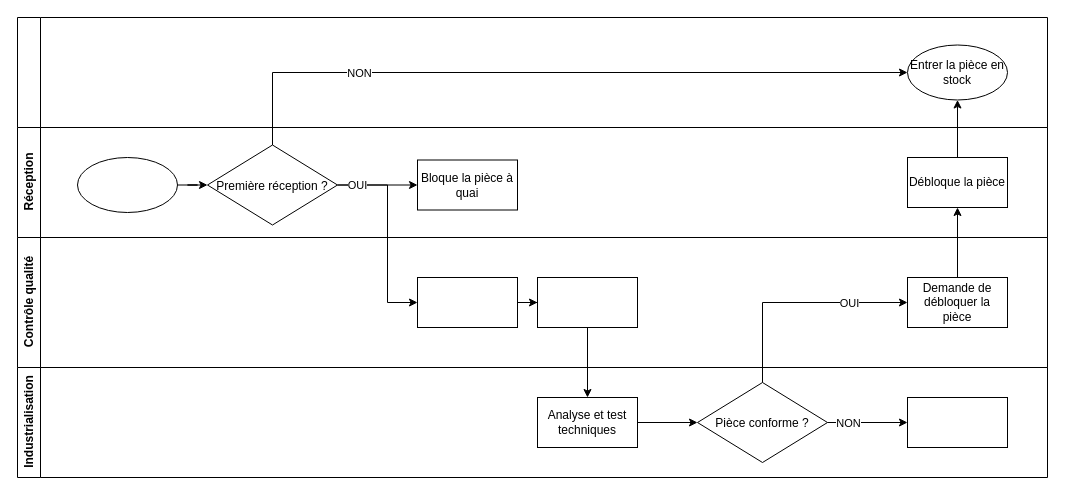
Some shapes in this 1065 by 495 pixel diagram are drawn without their labels. Here are the shapes that lost their labels. From the top down, the centre of each, then its label:
At pixel 532 72: "Magasin".
At pixel 127 184: "Recoit la pièce".
At pixel 467 302: "Contrôle un échantillon".
At pixel 587 302: "Rédige un rapport".
At pixel 957 422: "Contact fournisseur".
